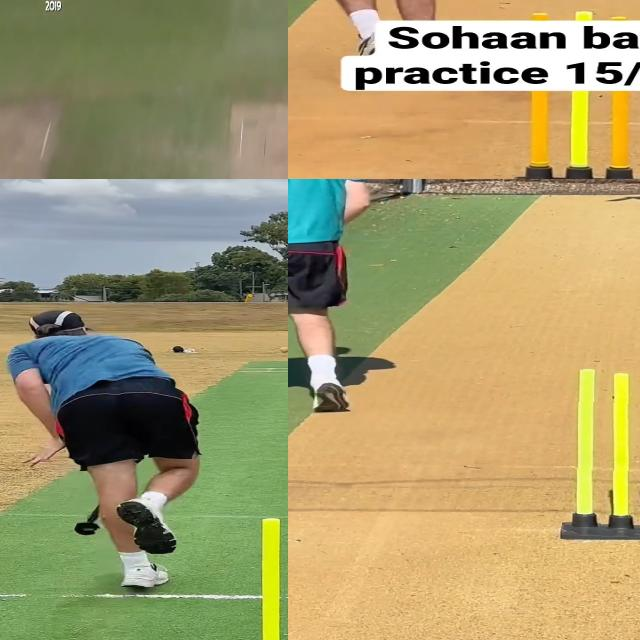Cricket ball: (275, 344, 288, 356)
Stumps: (562, 367, 640, 539), (516, 90, 640, 179), (241, 516, 288, 640)
